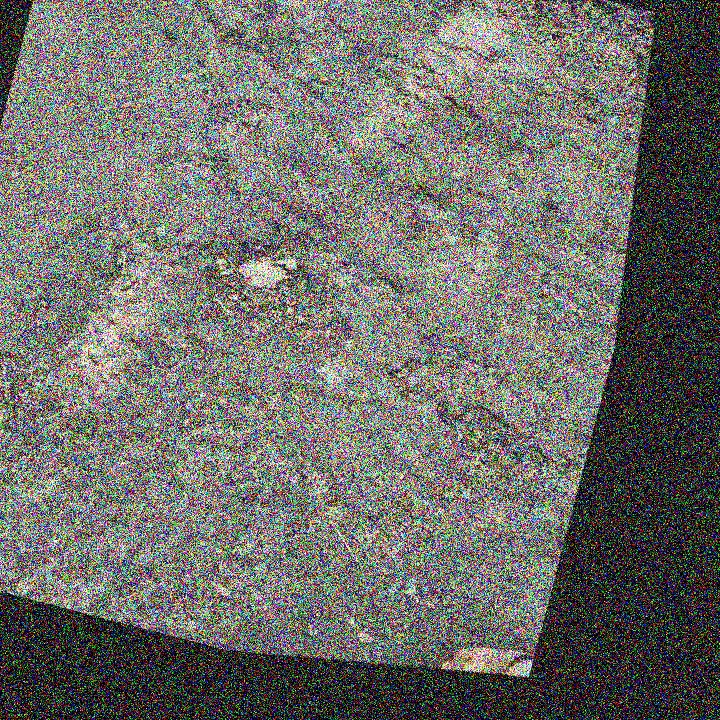pothole: (170, 203, 378, 383), (449, 0, 667, 131), (378, 322, 486, 411), (440, 388, 528, 467), (198, 82, 284, 162)
